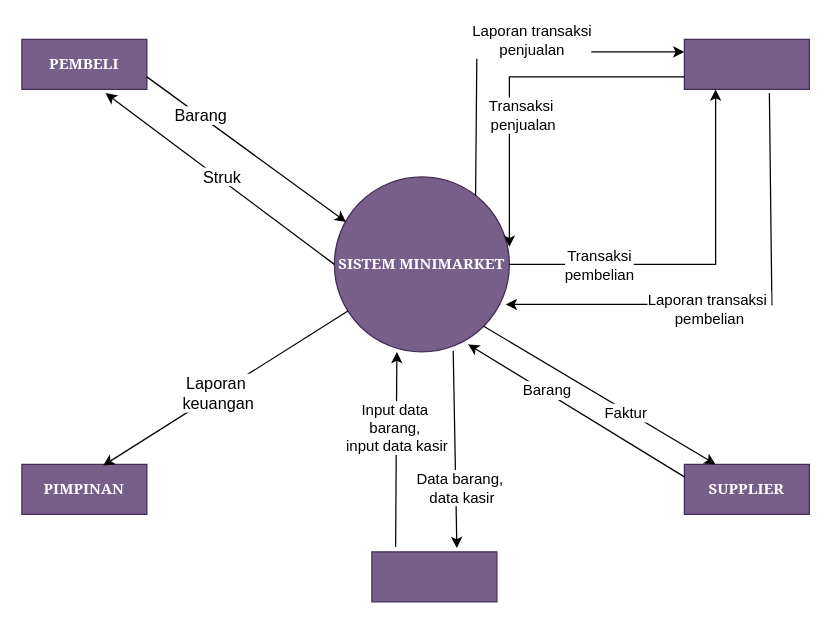
This 831x624 diagram has some shape labels left out. Each missing label, with the box of its shape:
ADMIN: (371, 551, 497, 602)
KASIR: (683, 38, 809, 89)
